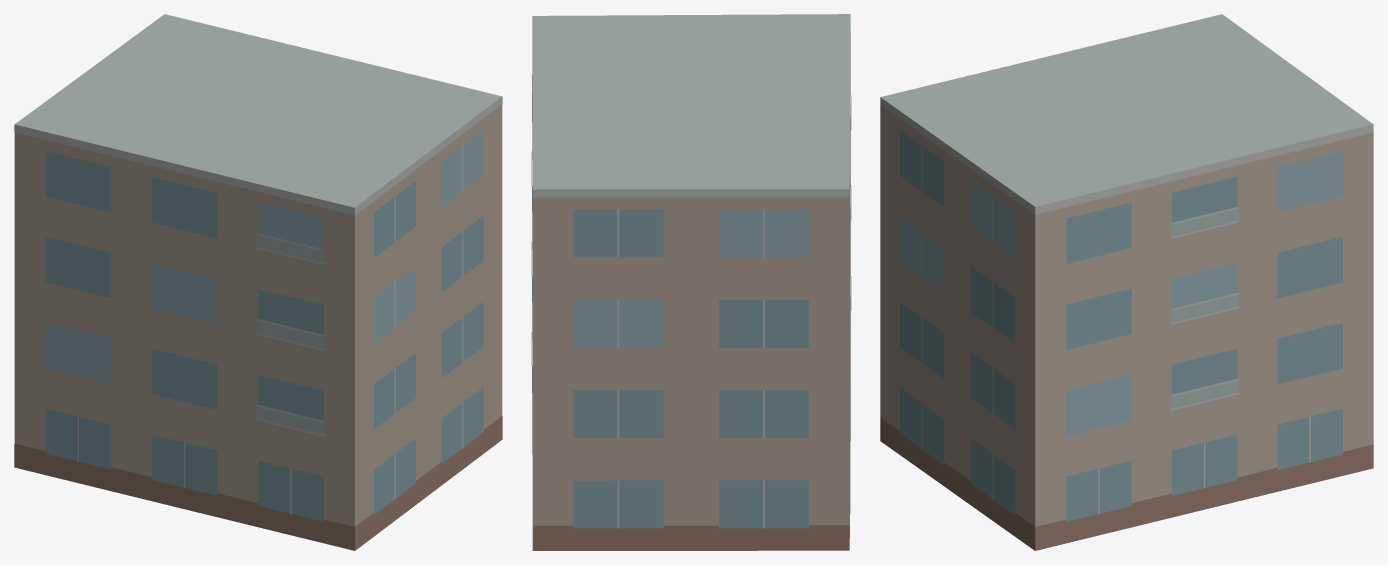
File: survey-upis-32992396.glb
The picture shows the model from 3 angles, left to right: view 1: azimuth 30°, elevation 25°; view 2: azimuth 150°, elevation 25°; view 3: azimuth 270°, elevation 25°; orthographic projection. The views are drawn at different scales.
Parts seen in each view (by area): view 1: survey-upis-32992396.tmp; view 2: survey-upis-32992396.tmp; view 3: survey-upis-32992396.tmp.
Part boxes in pixels (bbox=[...]): survey-upis-32992396.tmp: bbox=[14, 14, 502, 550]; survey-upis-32992396.tmp: bbox=[531, 14, 851, 550]; survey-upis-32992396.tmp: bbox=[880, 14, 1373, 550].
Bounding box in the file's own units: 12.89 × 10.7 × 13.92.
